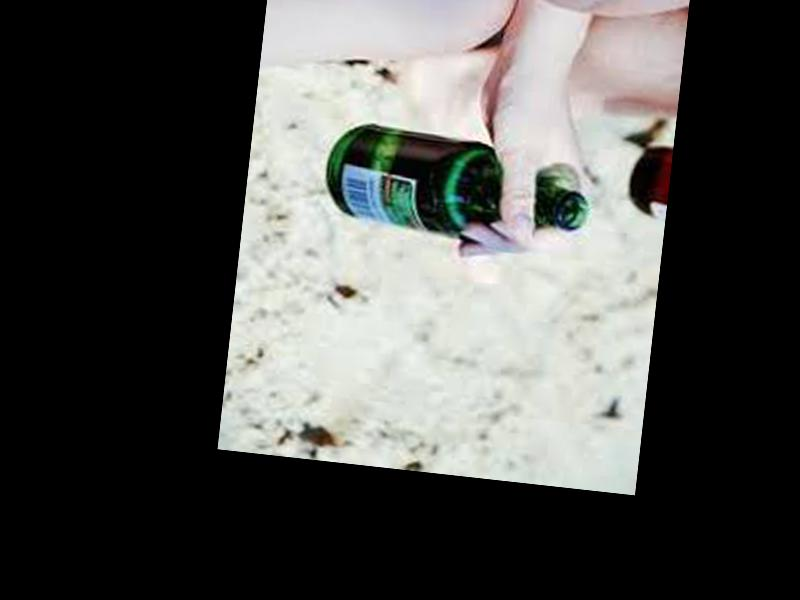Beer: (320, 118, 596, 250)
